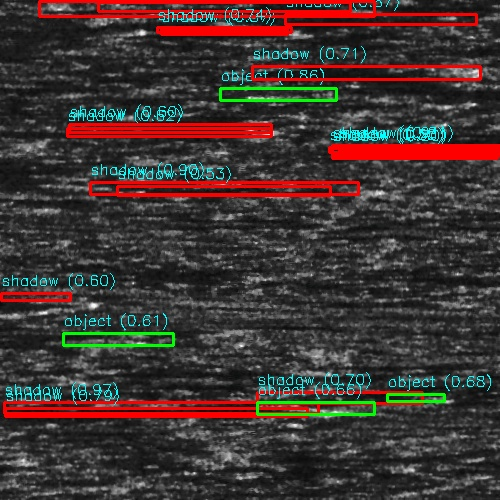rock: (313, 326, 500, 351), (79, 179, 224, 194), (0, 63, 101, 80), (0, 11, 88, 26), (138, 405, 221, 414), (414, 180, 487, 189), (333, 26, 416, 33), (55, 393, 108, 402), (180, 29, 243, 36), (462, 307, 500, 316), (120, 6, 183, 11), (218, 125, 249, 132)
shadow: (152, 179, 398, 194), (0, 11, 227, 26), (82, 393, 443, 402), (44, 63, 225, 80), (180, 405, 500, 414), (407, 326, 500, 351), (0, 143, 143, 154), (234, 125, 423, 132), (152, 6, 399, 11), (0, 147, 196, 152), (212, 29, 338, 36), (0, 0, 36, 17), (375, 26, 440, 33), (451, 180, 500, 189)
